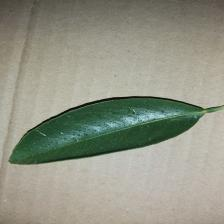healthy: (7, 94, 205, 168)
